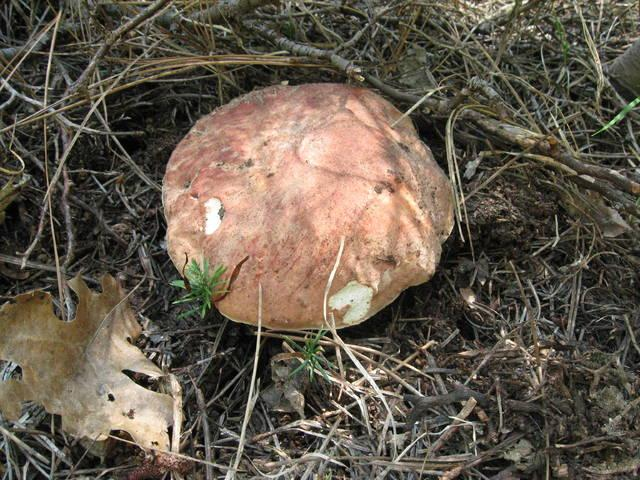edible_mushroom: (160, 80, 456, 333)
